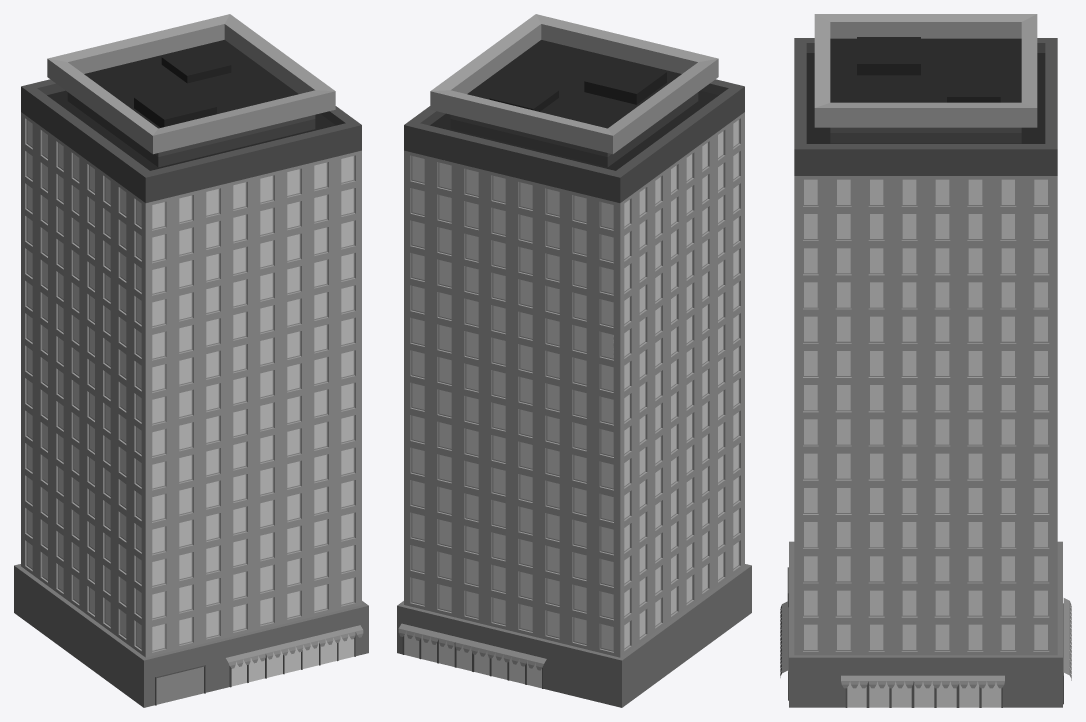
File: Bulding_1.fbx
3 renders of one model, left to right at view 1: azimuth 30°, elevation 25°; view 2: azimuth 150°, elevation 25°; view 3: azimuth 270°, elevation 25°, orthographic. The views are drawn at different scales.
Visible parts, largest first — view 1: Ufficio, Cube, Base.002, Tende.002; view 2: Ufficio, Cube, Base.002, Tende.006; view 3: Ufficio, Cube, Base.002, Tende.005, Tende.006, Tende.002.
Part boxes in pixels (x1,y1,x2,y2): Ufficio: (21, 112, 361, 657); Cube: (21, 14, 361, 202); Base.002: (14, 564, 368, 707); Tende.002: (226, 625, 363, 668); Ufficio: (404, 112, 744, 657); Cube: (404, 14, 744, 202); Base.002: (397, 564, 751, 707); Tende.006: (398, 623, 546, 670); Ufficio: (794, 176, 1057, 655); Cube: (794, 14, 1057, 175); Base.002: (787, 541, 1063, 707); Tende.005: (841, 675, 1004, 688); Tende.006: (1063, 598, 1071, 680); Tende.002: (780, 601, 787, 677).
Bounding box in the file's own units: 1758 × 4036 × 1813.
